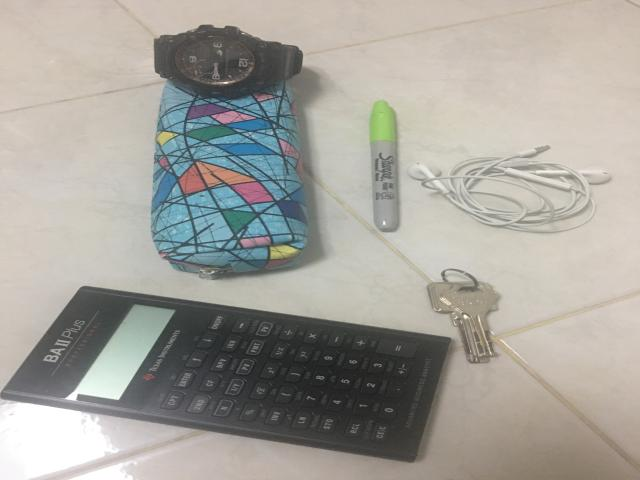Keys: (428, 268, 498, 363)
Pen: (370, 101, 398, 232)
Watch: (153, 24, 303, 98)
wire: (408, 147, 610, 232)
